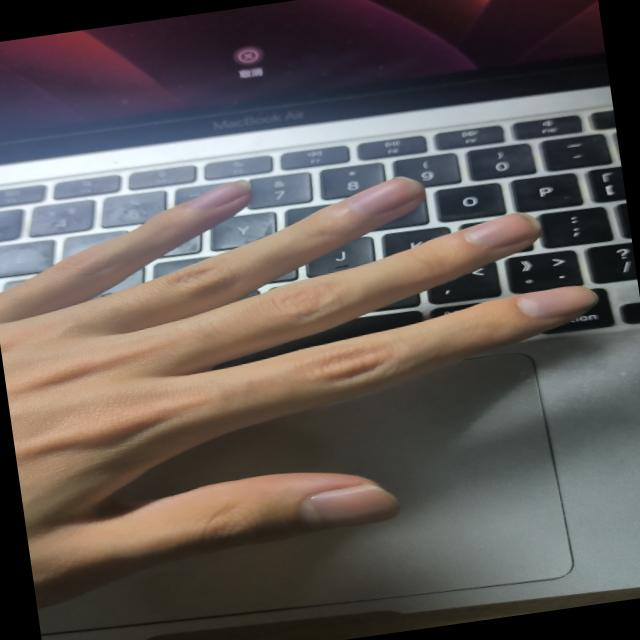Nail: (303, 486, 399, 531), (346, 177, 423, 215), (465, 213, 541, 250), (517, 286, 598, 318), (187, 180, 251, 210)
